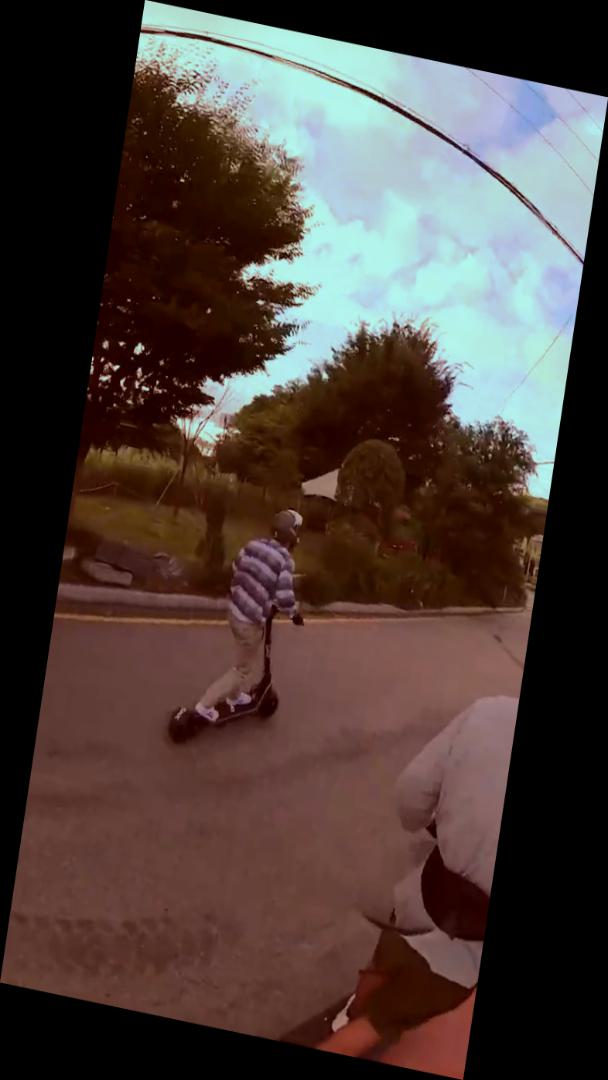helmet: (162, 486, 326, 773)
